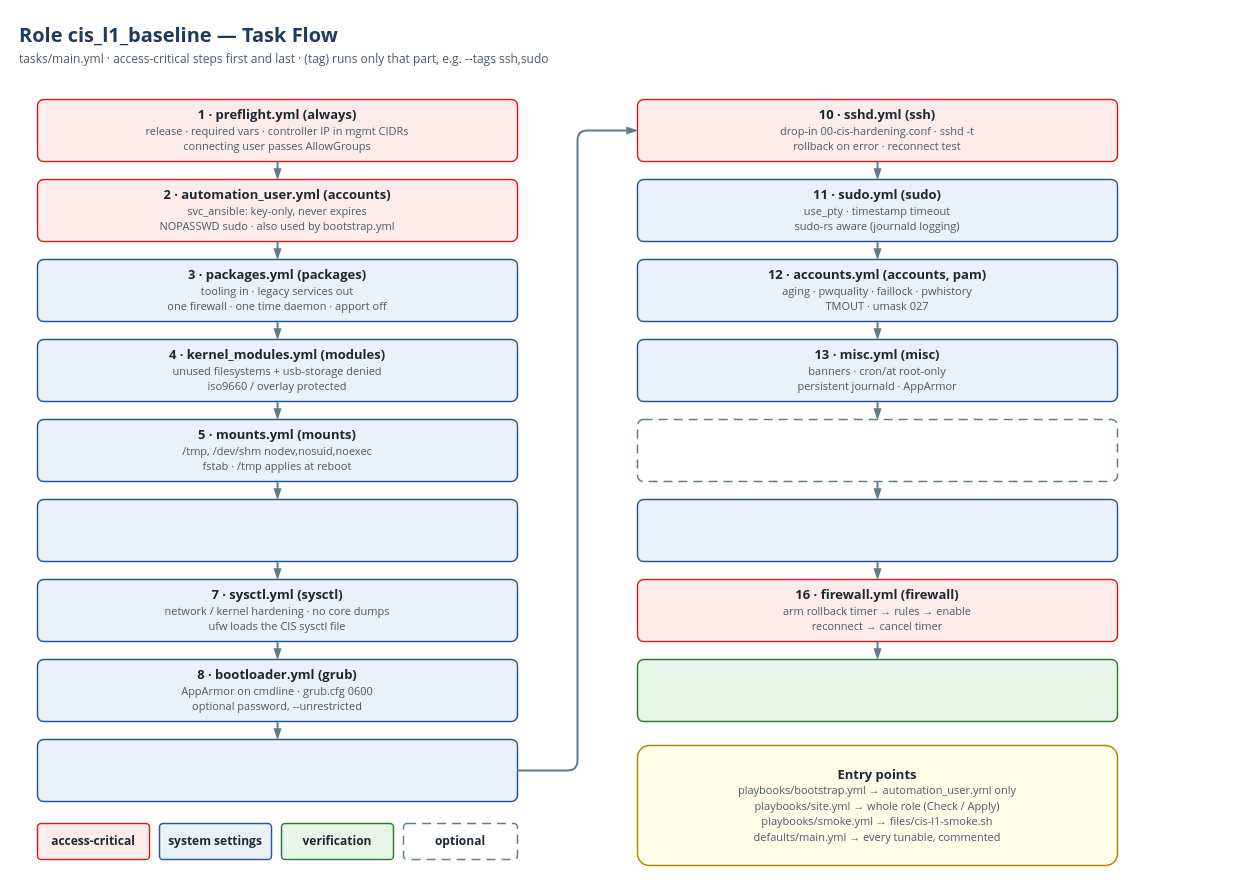
This 1234x883 diagram has some shape labels left out. Here are the shapes that lost their labels. From the top down, the centre of each, then its label:
At [877,450]: "14 · vmware.yml (vmware, optional) open-vm-tools · cloud-init datasources".
At [277,530]: "6 · apt.yml (apt) debconf templates off /tmp package installs keep working".
At [877,530]: "15 · aide.yml (aide) AIDE · baseline in background · daily timer".
At [877,690]: "17 · summary.yml (always) flush handlers · pending reboot notice".
At [277,770]: "9 · time.yml (time) chrony · optional internal NTP servers".
